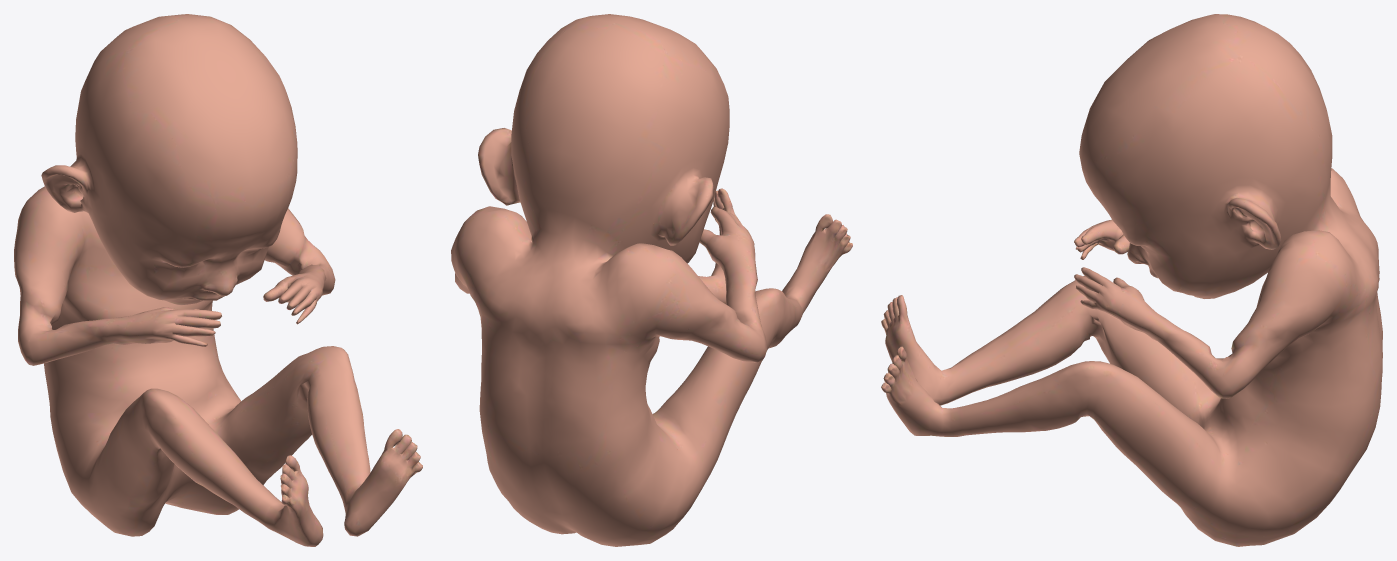
The picture shows the model from 3 angles, left to right: view 1: azimuth 30°, elevation 25°; view 2: azimuth 150°, elevation 25°; view 3: azimuth 270°, elevation 25°; orthographic projection.
Visible parts, largest first — view 1: Baby; view 2: Baby; view 3: Baby.
Boxes of the visible parts, bbox=[...] form: Baby: bbox=[14, 14, 422, 546]; Baby: bbox=[451, 14, 852, 546]; Baby: bbox=[881, 14, 1382, 546].
Size of the model in its own units: 0.1597 by 0.25 by 0.2274.
1 material, 1 textured.
